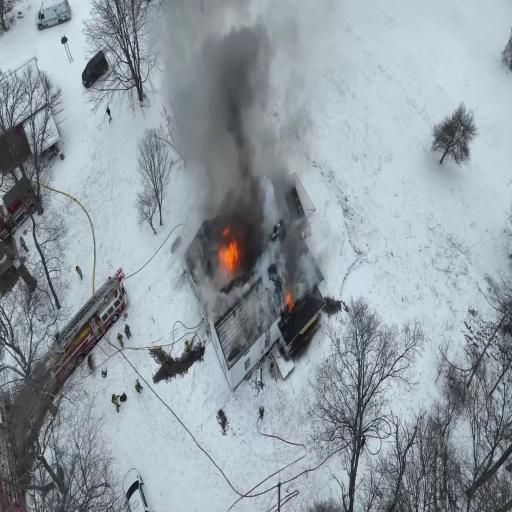fire: (218, 232, 240, 272)
smoke: (194, 68, 264, 198)
